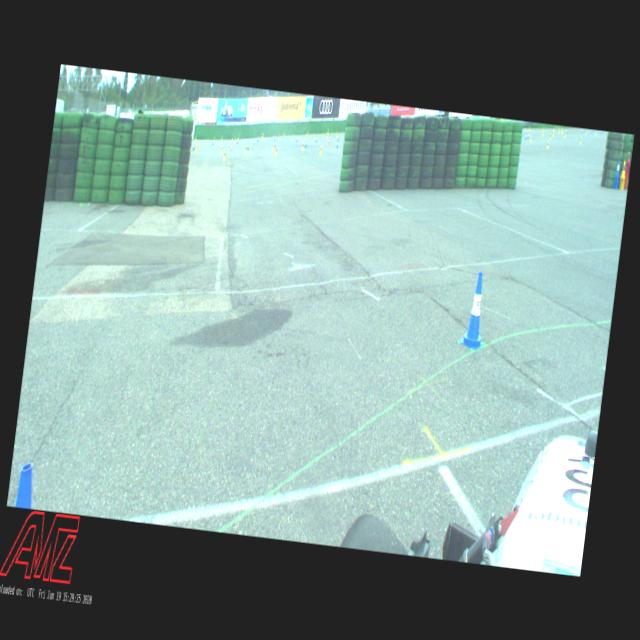blue_cone: (460, 270, 490, 350), (615, 160, 620, 176)
yellow_cone: (620, 160, 626, 177), (274, 145, 278, 156), (319, 144, 322, 155), (223, 150, 226, 160), (301, 141, 304, 150), (245, 144, 248, 153), (272, 142, 274, 151), (546, 140, 548, 148)
